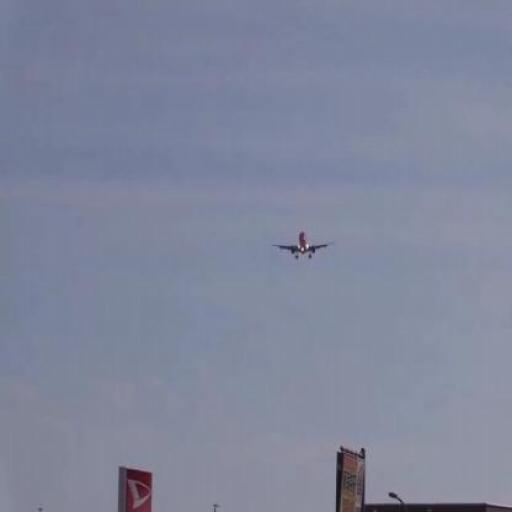aircraft: (273, 231, 327, 259)
